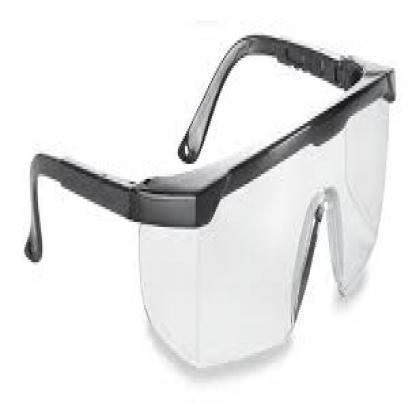goggles: (19, 31, 403, 382)
